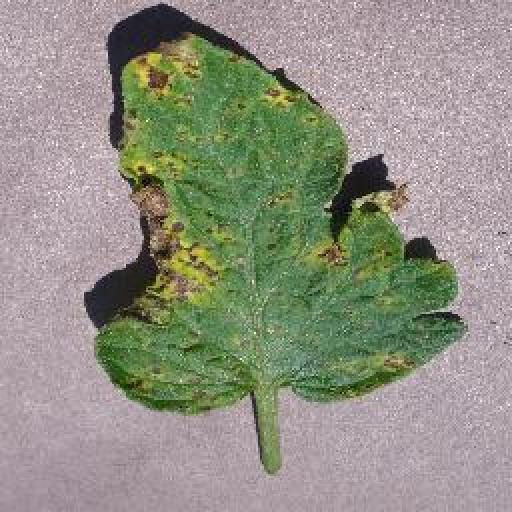Septoria: (95, 30, 471, 414)
